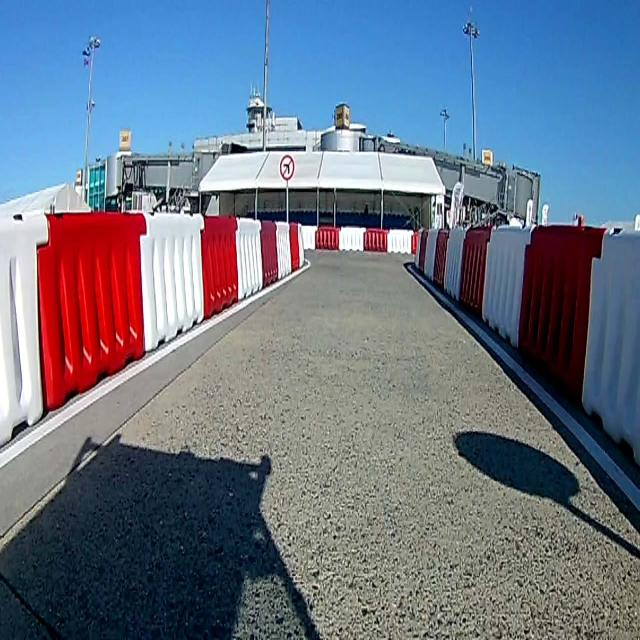soladonulmez: (280, 156, 294, 178)
